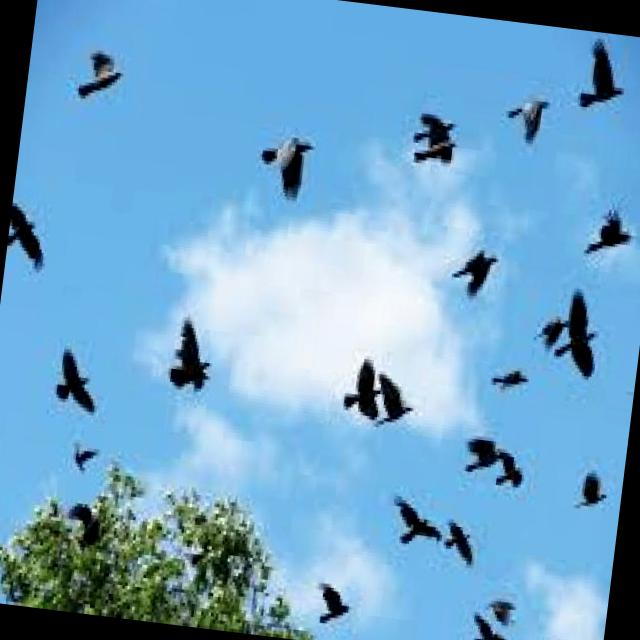bird: (552, 277, 626, 399), (393, 78, 474, 188), (282, 543, 365, 630), (368, 478, 446, 569), (568, 29, 636, 128), (156, 310, 226, 402), (252, 128, 322, 218), (41, 340, 110, 424), (564, 449, 626, 541), (520, 297, 590, 374), (372, 341, 419, 450), (442, 239, 507, 317), (334, 348, 388, 434), (579, 196, 640, 272), (459, 402, 514, 486), (78, 44, 138, 120), (3, 194, 54, 282), (430, 497, 490, 569), (474, 354, 542, 414), (504, 82, 554, 154), (51, 426, 102, 490), (494, 443, 538, 508), (453, 601, 516, 640), (481, 588, 523, 635), (537, 629, 584, 640)
